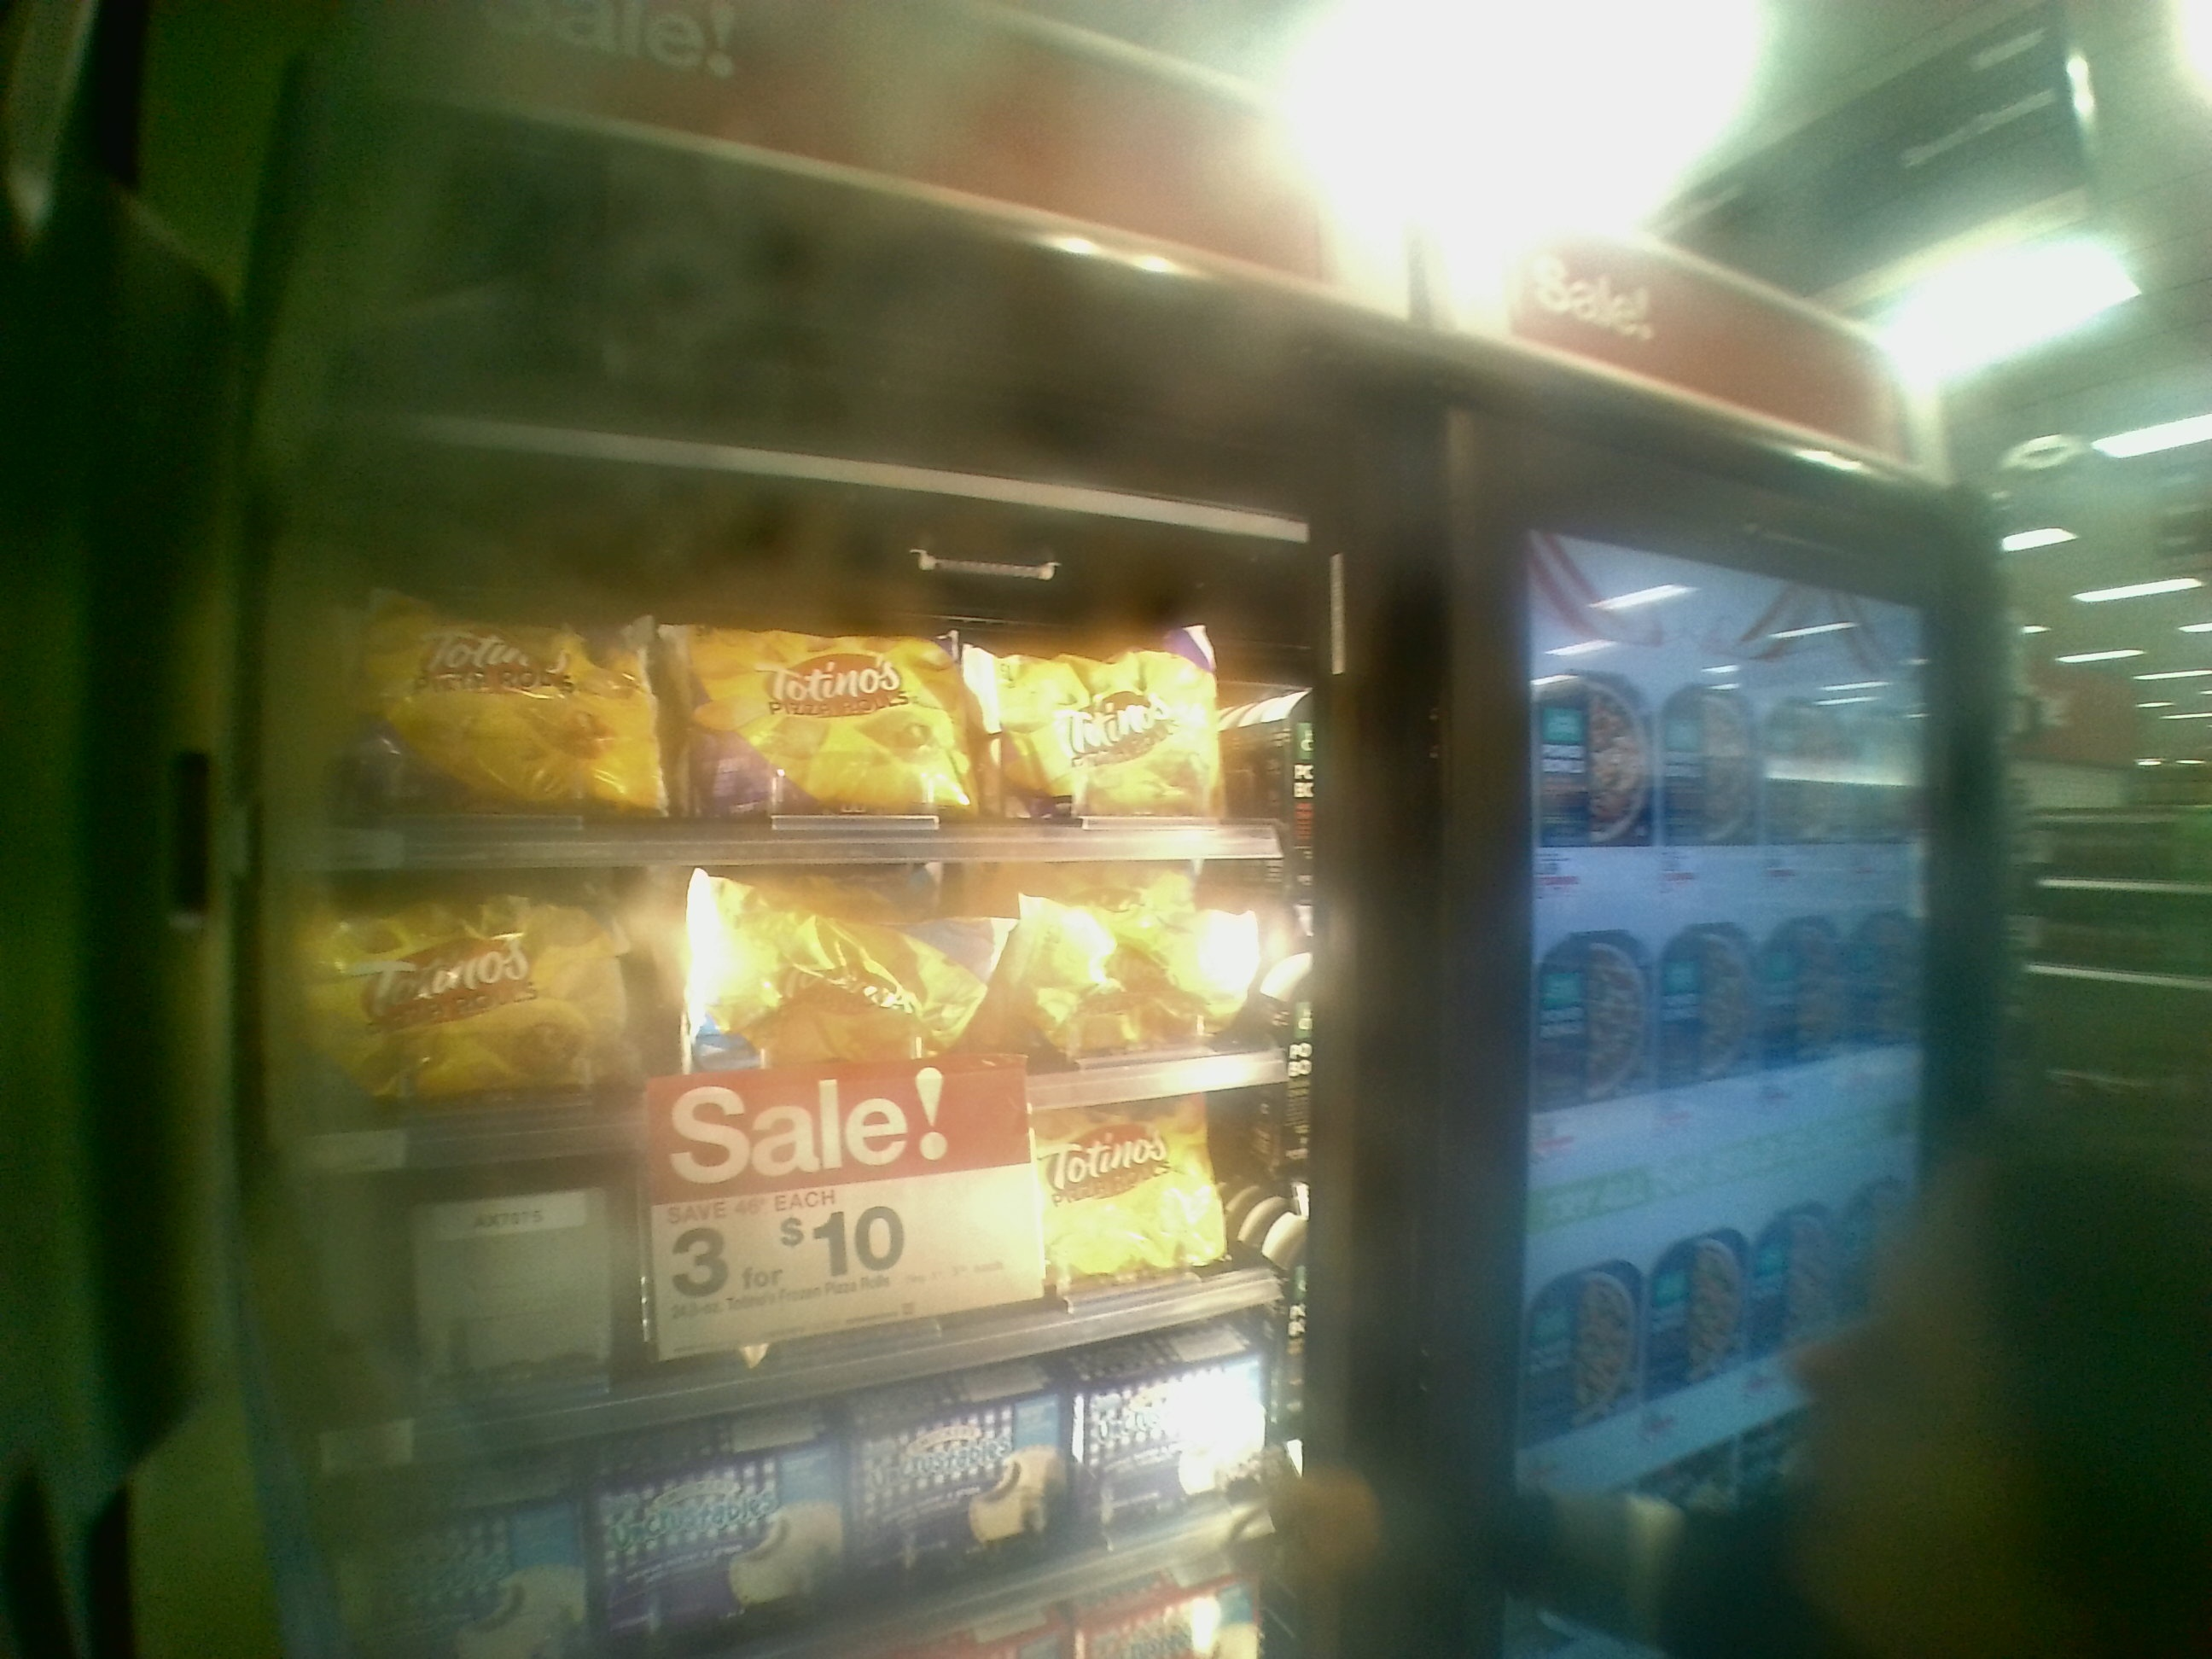shelf: (327, 847, 1374, 1180)
